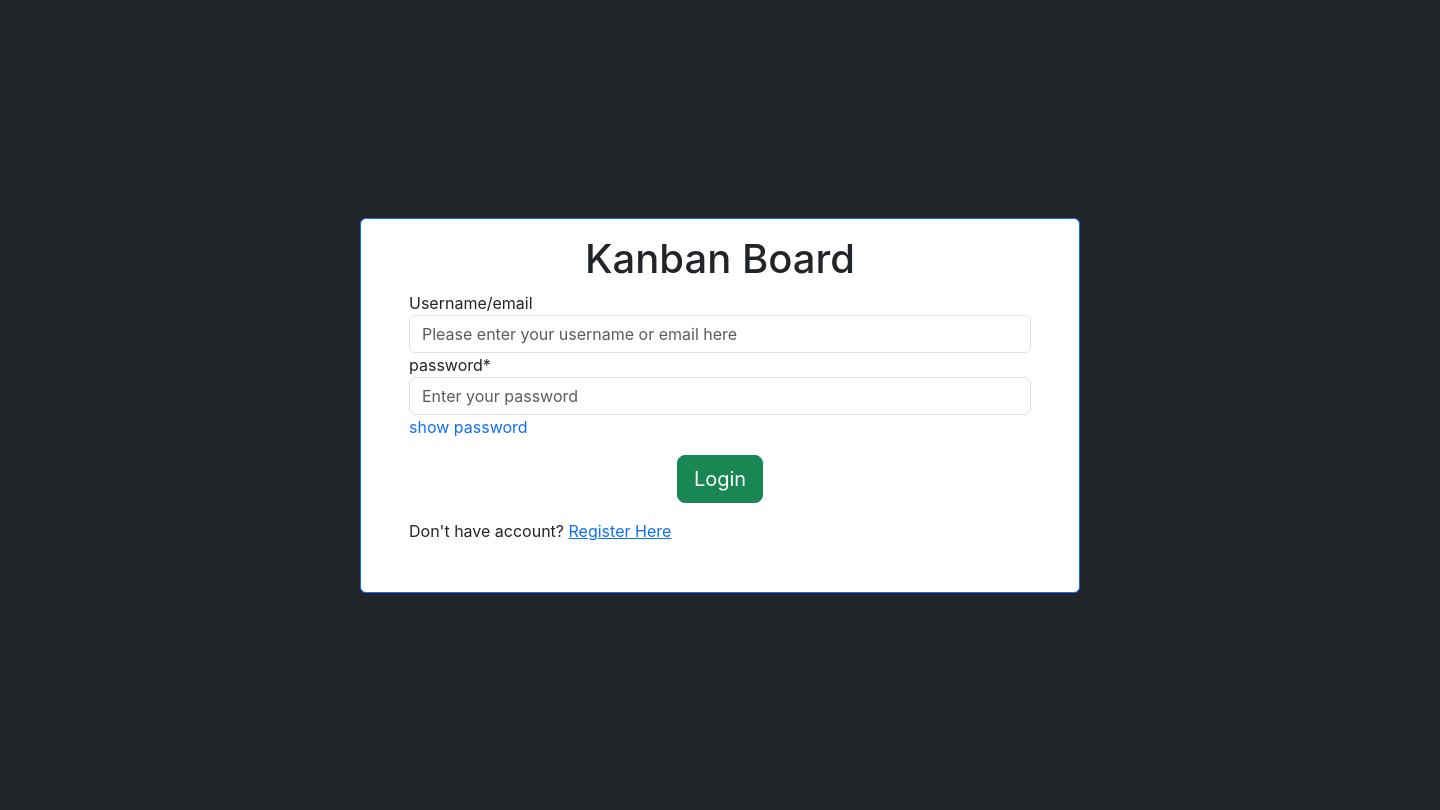
Test: renders home componenet correctly › showinig error when user focus on input field and focussing out without entering the value
Click the field labelled "Username/email". click: (720, 334)
box: [409,314,1031,352]
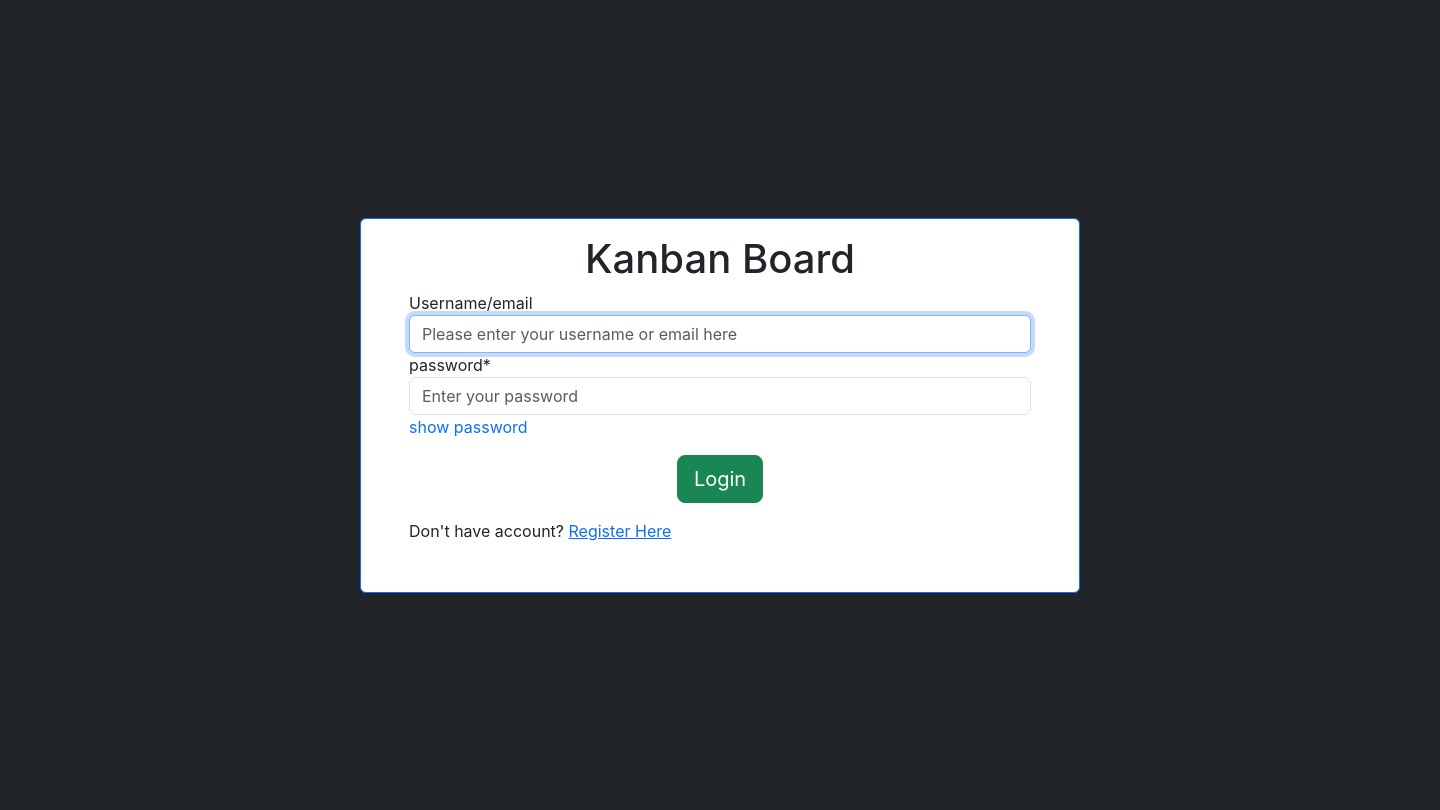
Click the element that starts with "Kanban Board". click: (720, 405)
box: [0,0,1439,809]
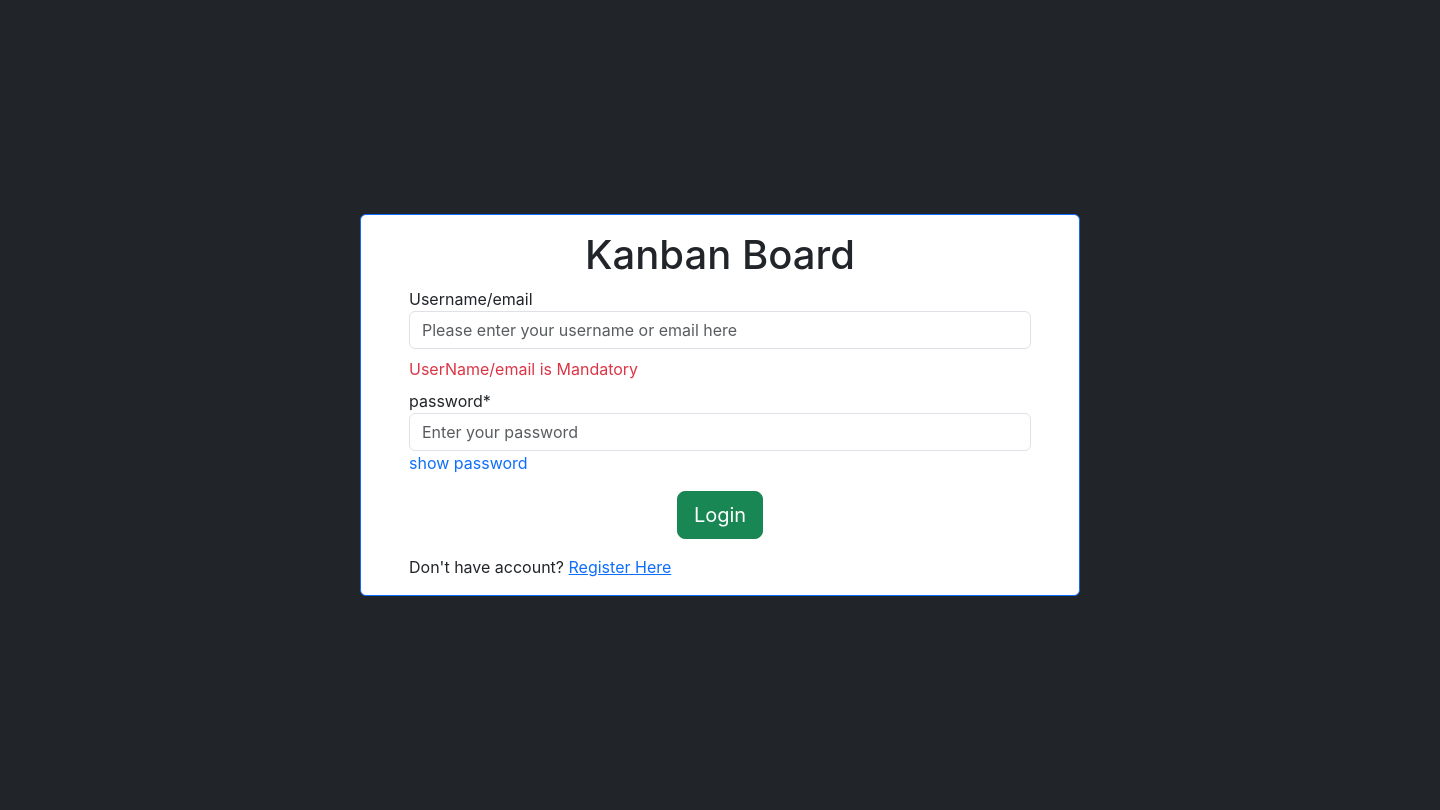
Now the text "UserName/email is Mandatory" is shown, box [409,359,638,379]
